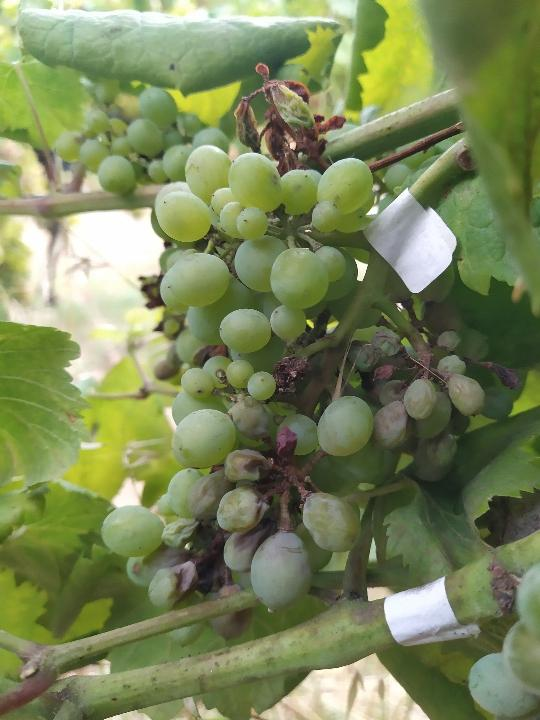grape: (96, 138, 488, 616)
